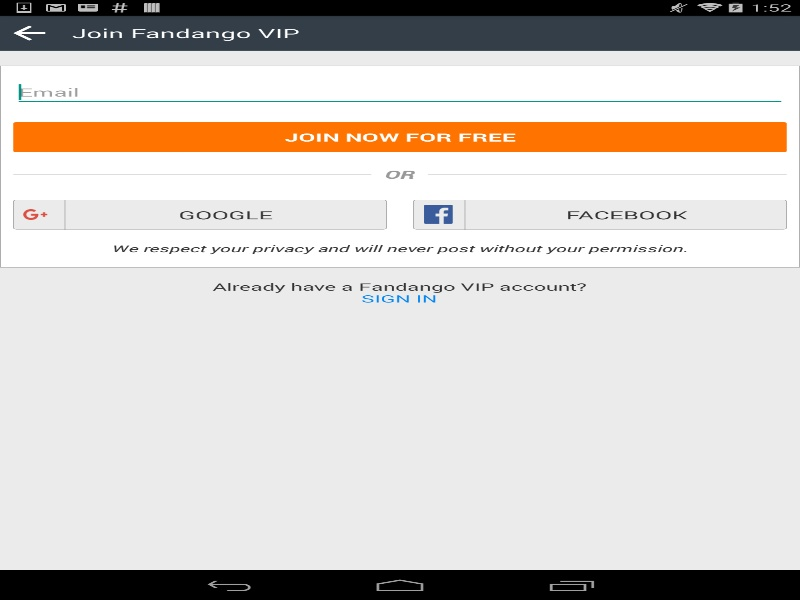Button: (13, 122, 786, 152), (13, 199, 386, 229), (413, 199, 786, 229)
Input: (13, 78, 786, 106)
